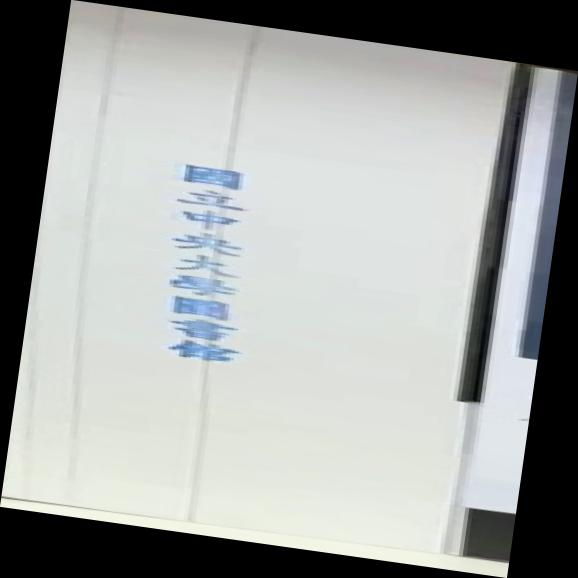backward: (1, 1, 575, 577)
